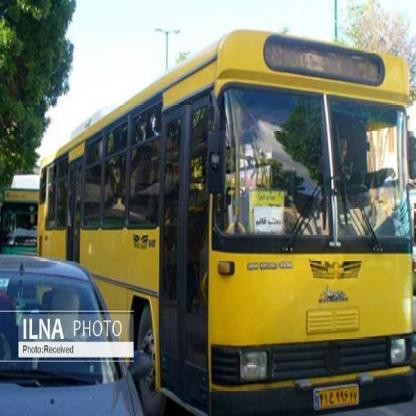Bus: (33, 30, 416, 408)
Car: (0, 250, 140, 416)
